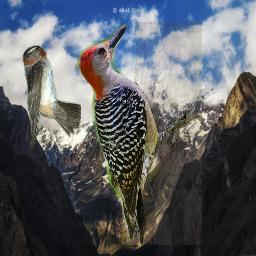Swallow: (22, 45, 81, 151)
Woodpecker: (71, 22, 202, 245)
